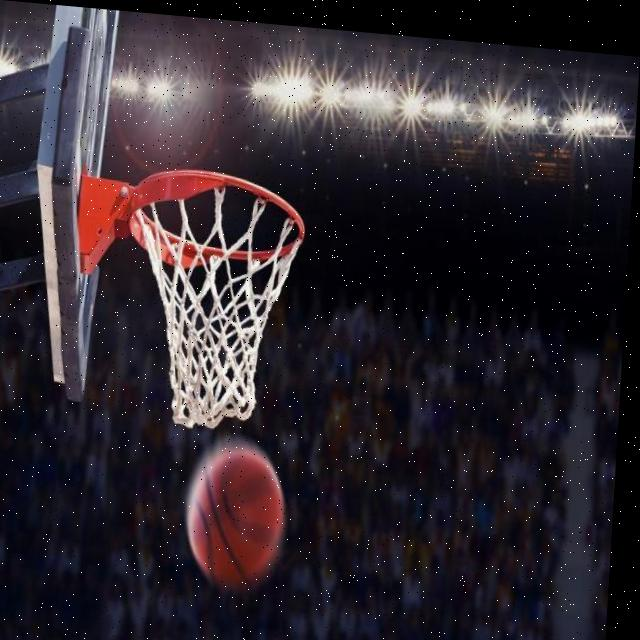Basketball: (185, 444, 293, 596)
